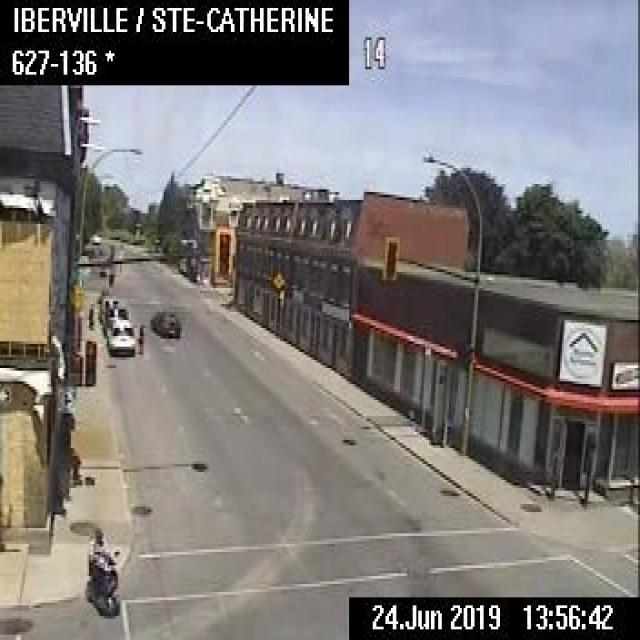pedestrian: (63, 412, 82, 482), (135, 320, 144, 352), (86, 301, 92, 327)
vehicle: (84, 528, 124, 616), (106, 317, 135, 356), (149, 309, 180, 337), (102, 304, 127, 332), (96, 292, 117, 322)
